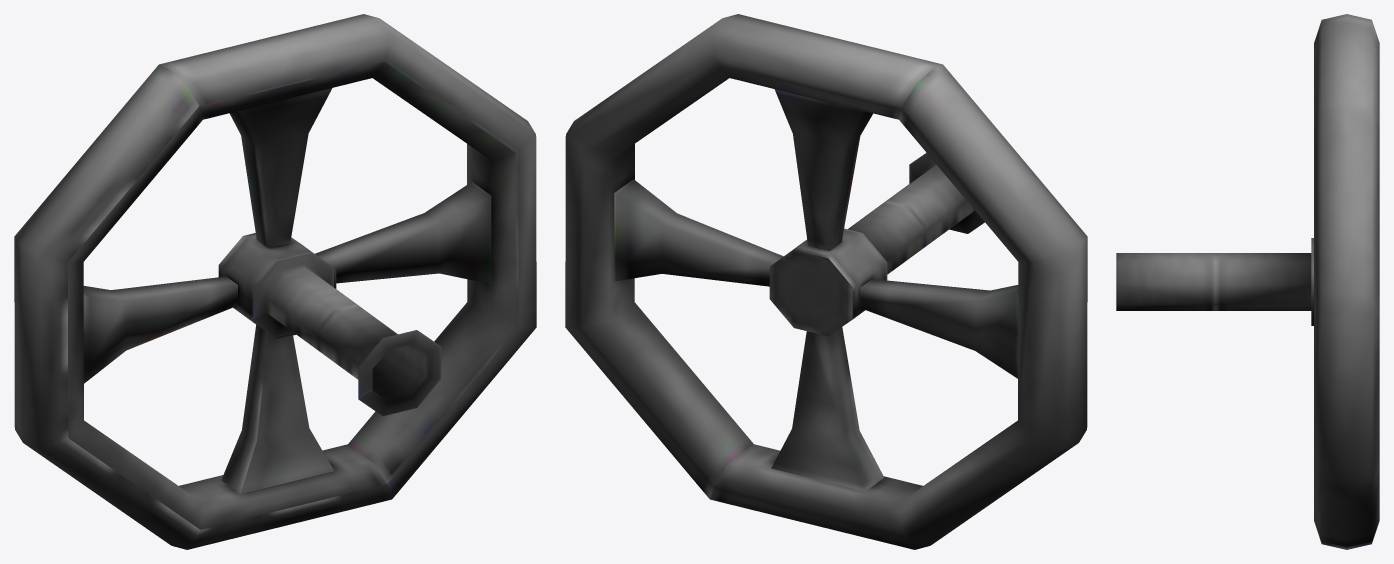
The model's file is vaultwheel.obj.
3 renders of one model, left to right at view 1: azimuth 30°, elevation 25°; view 2: azimuth 150°, elevation 25°; view 3: azimuth 270°, elevation 25°, orthographic. The views are drawn at different scales.
Visible parts, largest first — view 1: polySurface50; view 2: polySurface50; view 3: polySurface50.
Boxes of the visible parts, left/top/right/bottom form: polySurface50: left=14, top=14, right=536, bottom=549; polySurface50: left=565, top=14, right=1087, bottom=549; polySurface50: left=1116, top=14, right=1379, bottom=549.
Bounding box in the file's own units: 6.55 × 5.9 × 3.19.
